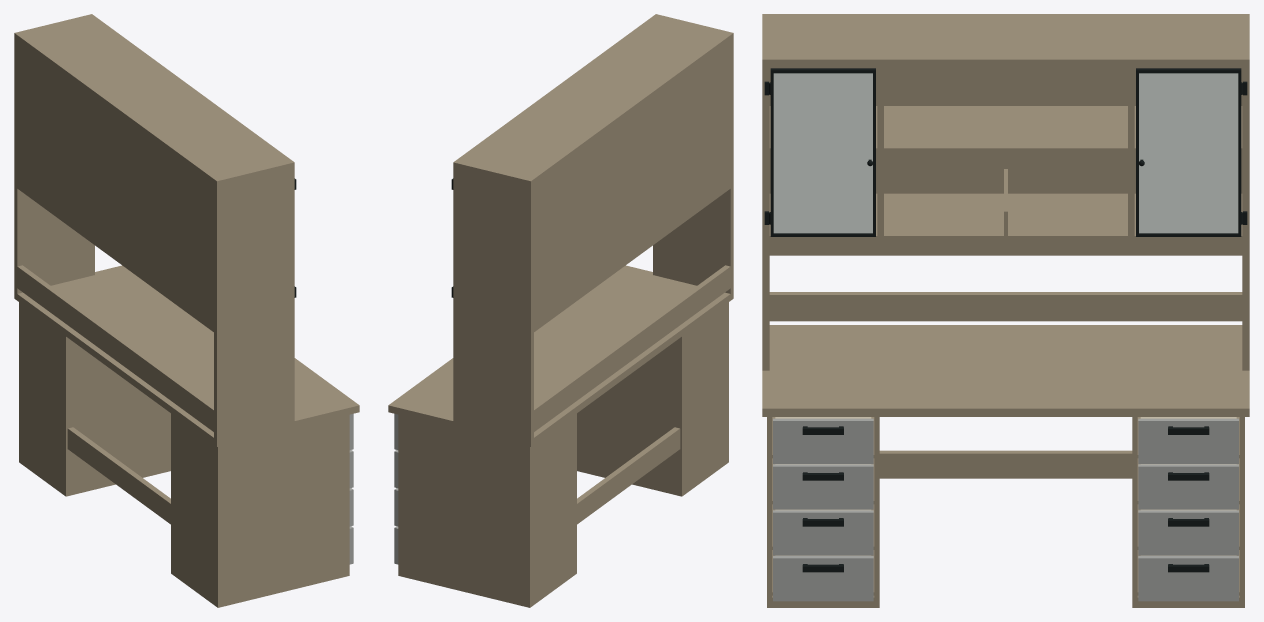
3 renders of one model, left to right at view 1: azimuth 30°, elevation 25°; view 2: azimuth 150°, elevation 25°; view 3: azimuth 270°, elevation 25°, orthographic. The views are drawn at different scales.
Visible parts, largest first — view 1: visual_part_000_0_1; view 2: visual_part_000_0_1; view 3: visual_part_000_0_1, visual_part_009_0_0, visual_part_010_0_0, visual_part_003_0_2, visual_part_007_0_2, visual_part_001_0_2, visual_part_002_0_2, visual_part_005_0_2, visual_part_006_0_2, visual_part_004_0_2, visual_part_008_0_2, visual_part_009_0_1 (+1 smaller).
Part boxes in pixels (x1=…): visual_part_000_0_1: x1=14, y1=14, x2=359, y2=607; visual_part_000_0_1: x1=388, y1=14, x2=733, y2=607; visual_part_000_0_1: x1=762, y1=14, x2=1249, y2=607; visual_part_009_0_0: x1=1139, y1=73, x2=1238, y2=233; visual_part_010_0_0: x1=773, y1=73, x2=872, y2=233; visual_part_003_0_2: x1=1138, y1=464, x2=1238, y2=509; visual_part_007_0_2: x1=773, y1=464, x2=873, y2=509; visual_part_001_0_2: x1=1138, y1=556, x2=1238, y2=601; visual_part_002_0_2: x1=1138, y1=510, x2=1238, y2=555; visual_part_005_0_2: x1=773, y1=556, x2=873, y2=601; visual_part_006_0_2: x1=773, y1=510, x2=873, y2=555; visual_part_004_0_2: x1=1138, y1=418, x2=1238, y2=463; visual_part_008_0_2: x1=773, y1=418, x2=873, y2=463; visual_part_009_0_1: x1=1136, y1=68, x2=1242, y2=236.
Size of the model in its own units: 0.6695 by 1.87 by 1.6.
